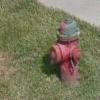Hydrant: (44, 12, 87, 84)
